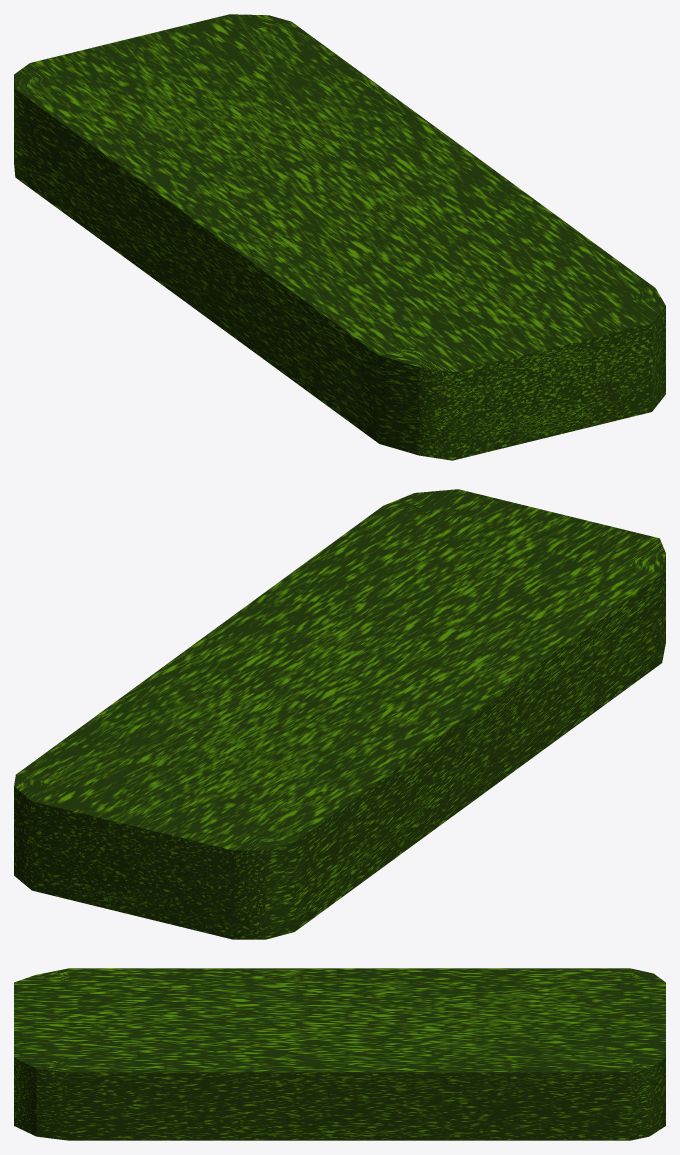
Rendered from platform2.fbx.
3 renders of one model, top to bottom at view 1: azimuth 30°, elevation 25°; view 2: azimuth 150°, elevation 25°; view 3: azimuth 270°, elevation 25°, orthographic. The views are drawn at different scales.
Parts seen in each view (by area): view 1: pCube6; view 2: pCube6; view 3: pCube6.
Part boxes in pixels (left/top/right/bottom): pCube6: left=14, top=14, right=665, bottom=460; pCube6: left=14, top=489, right=665, bottom=939; pCube6: left=14, top=968, right=665, bottom=1140.
Bounding box in the file's own units: 680 × 208 × 1802.
1 material, 1 textured.
